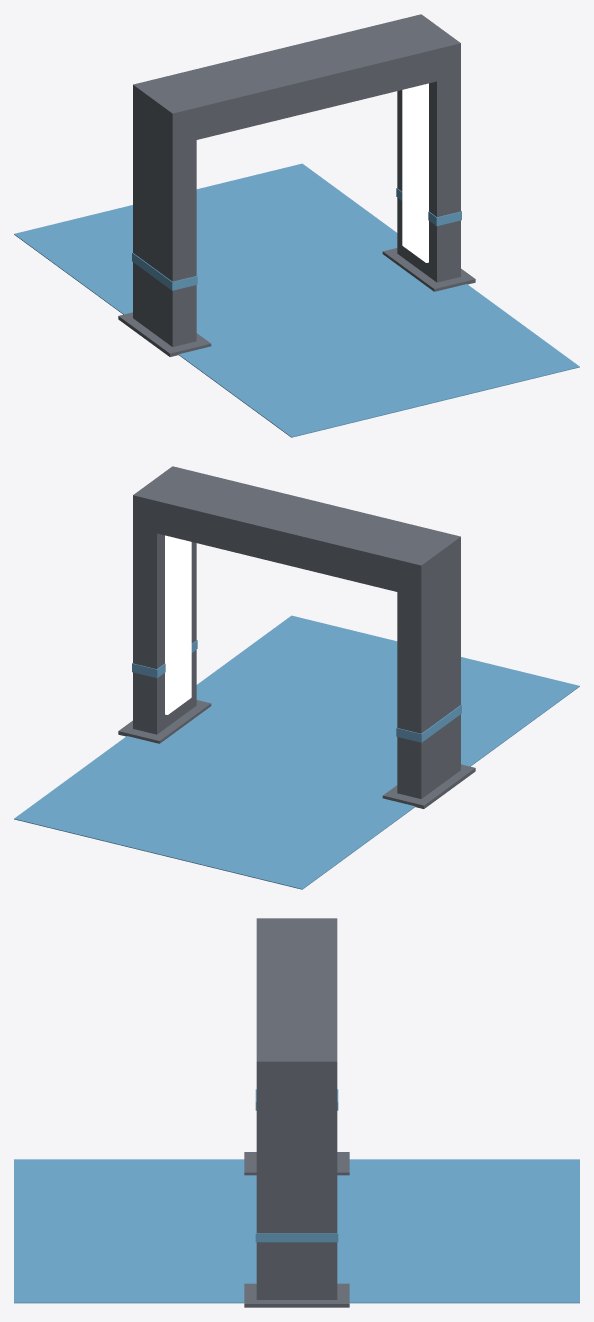
File: colibri-xl.glb
3 views of the same model, one above another, from view 1: azimuth 30°, elevation 25°; view 2: azimuth 150°, elevation 25°; view 3: azimuth 270°, elevation 25° (orthographic).
Parts seen in each view (by area): view 1: p10, p8, p0, p4, p5, p3, p7, p2; view 2: p10, p8, p0, p4, p5, p3, p7, p2; view 3: p10, p4, p8, p7, p0, p6, p3.
Part boxes in pixels (bbox=[...]): p10: bbox=[14, 163, 579, 437]; p8: bbox=[133, 14, 460, 145]; p0: bbox=[133, 79, 196, 346]; p4: bbox=[397, 14, 460, 282]; p5: bbox=[402, 83, 428, 262]; p3: bbox=[118, 312, 211, 356]; p7: bbox=[382, 248, 475, 291]; p2: bbox=[132, 252, 197, 290]; p10: bbox=[14, 615, 579, 889]; p8: bbox=[133, 466, 460, 597]; p0: bbox=[397, 531, 460, 798]; p4: bbox=[133, 466, 196, 734]; p5: bbox=[165, 535, 191, 714]; p3: bbox=[382, 764, 475, 808]; p7: bbox=[118, 700, 211, 743]; p2: bbox=[396, 704, 461, 742]; p10: bbox=[14, 1159, 579, 1303]; p4: bbox=[256, 1049, 337, 1299]; p8: bbox=[256, 918, 337, 1094]; p7: bbox=[244, 1283, 349, 1307]; p0: bbox=[256, 918, 337, 929]; p6: bbox=[255, 1221, 338, 1242]; p3: bbox=[244, 1152, 349, 1175].
Bounding box in the file's own units: 4.45 × 3.3 × 7.
